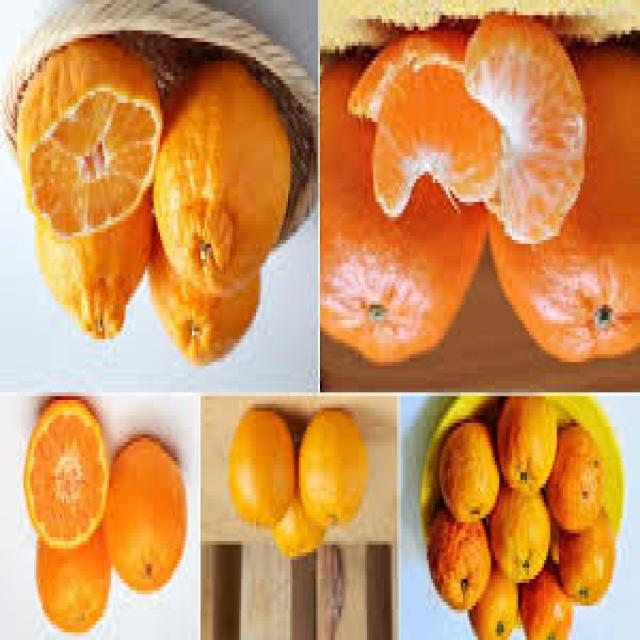orange: (103, 432, 193, 604)
